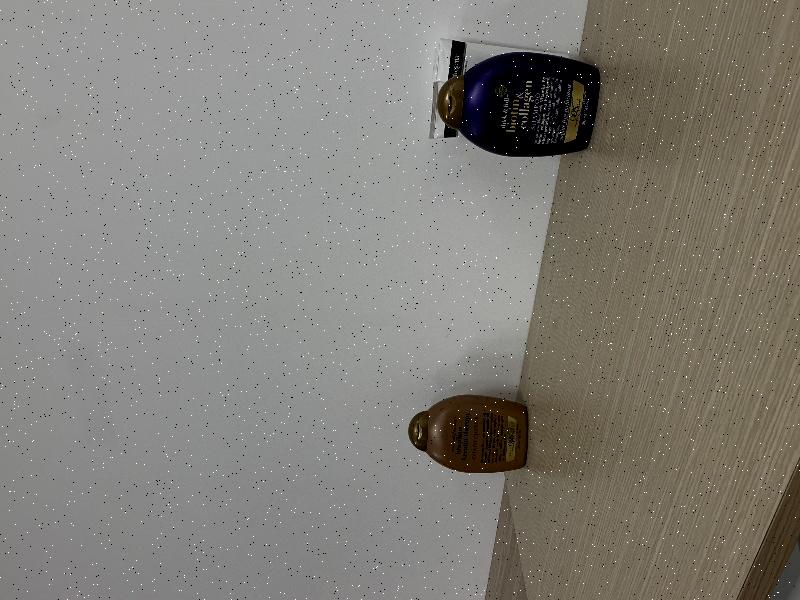BiotinCollagen_Shampoo: (439, 52, 600, 157)
BrazilianKerationTherapy_Conditioner: (408, 394, 528, 473)
